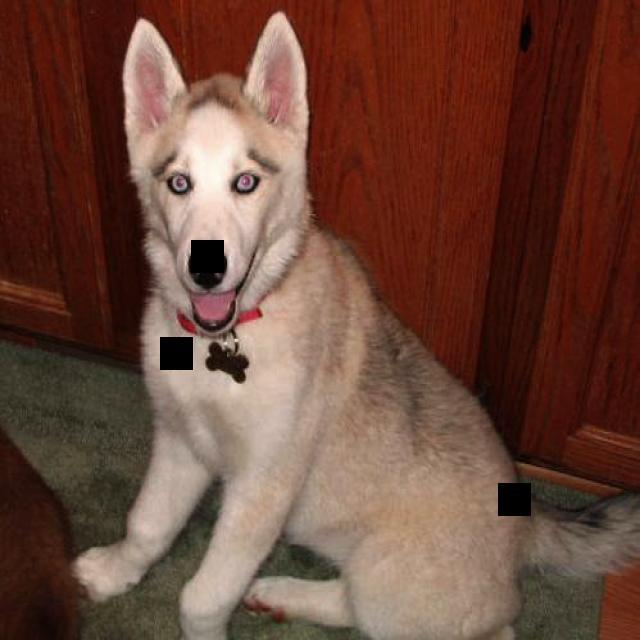puppy-dog: (71, 10, 640, 640)
